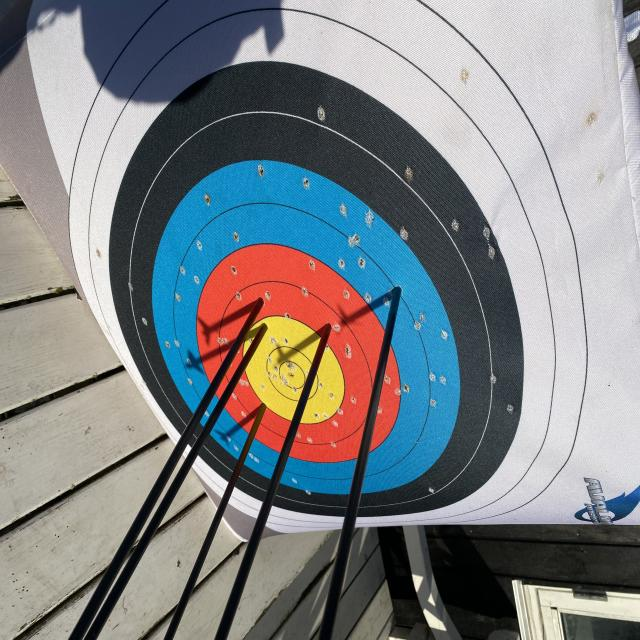Arrow_Blue: (384, 272, 414, 314)
Arrow_Red: (314, 311, 352, 354), (245, 280, 271, 314), (256, 391, 272, 420)
Arrow_Yellow: (252, 316, 278, 338)
